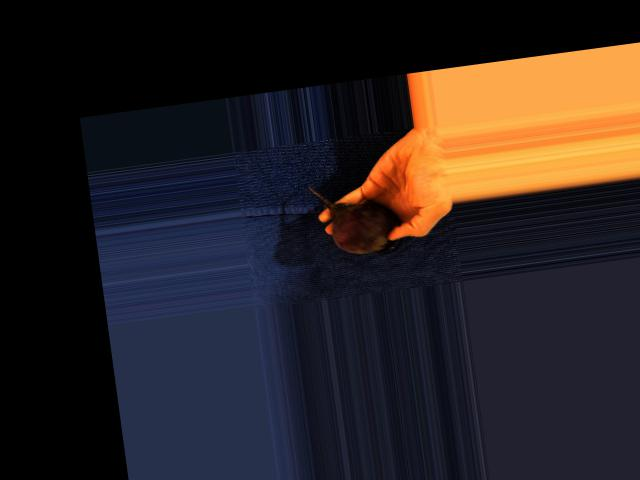beet: (307, 173, 403, 263)
